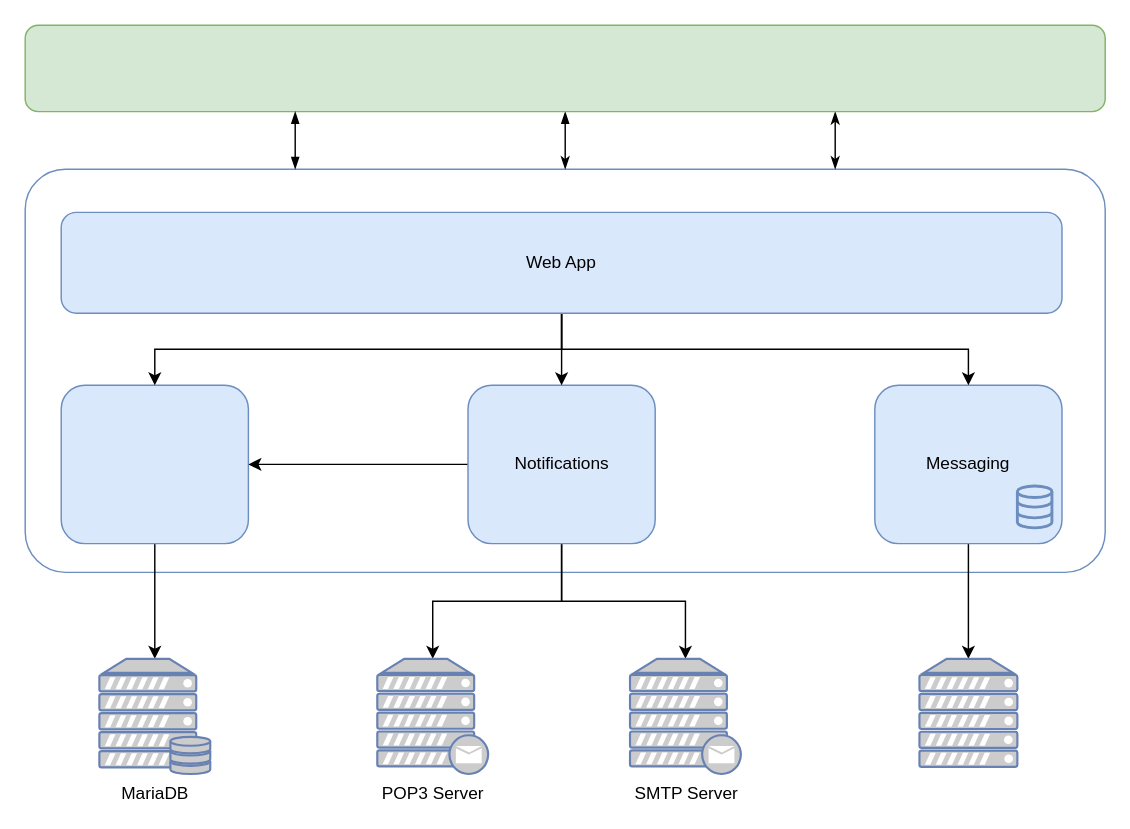
The diagram is 1130 pixels wide and 829 high, and some of its shapes have lost their labels. Each missing label, with the centre of its shape:
Client: point 564,68
Common: point 154,464
Skype Servers: point 967,712
